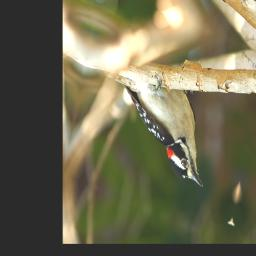Woodpecker: (88, 51, 222, 193)
